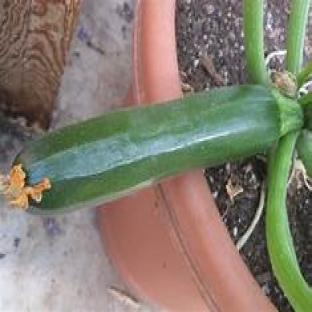Zucchini: (15, 87, 302, 211)
